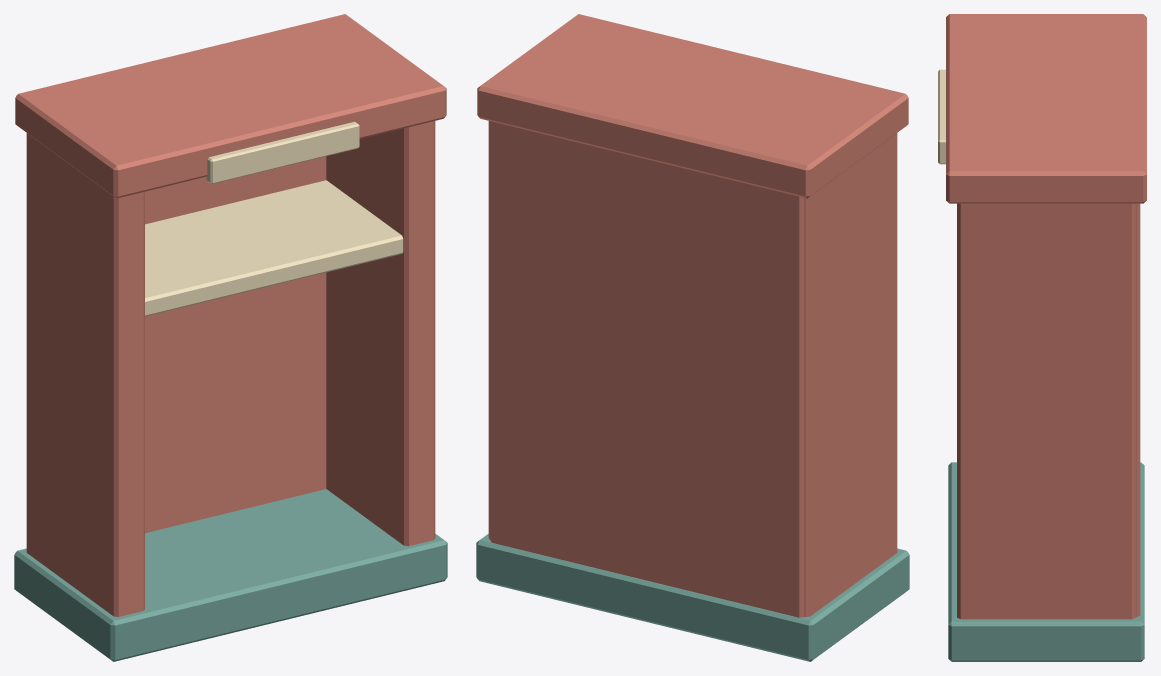
3 renders of one model, left to right at view 1: azimuth 30°, elevation 25°; view 2: azimuth 150°, elevation 25°; view 3: azimuth 270°, elevation 25°, orthographic.
Parts seen in each view (by area): view 1: firefighting-cabinet-01; view 2: firefighting-cabinet-01; view 3: firefighting-cabinet-01.
Boxes of the visible parts, left/top/right/bottom form: firefighting-cabinet-01: left=14, top=14, right=447, bottom=661; firefighting-cabinet-01: left=476, top=14, right=909, bottom=661; firefighting-cabinet-01: left=938, top=14, right=1146, bottom=661.
Size of the model in its own units: 0.86 by 1.21 by 0.4675.
